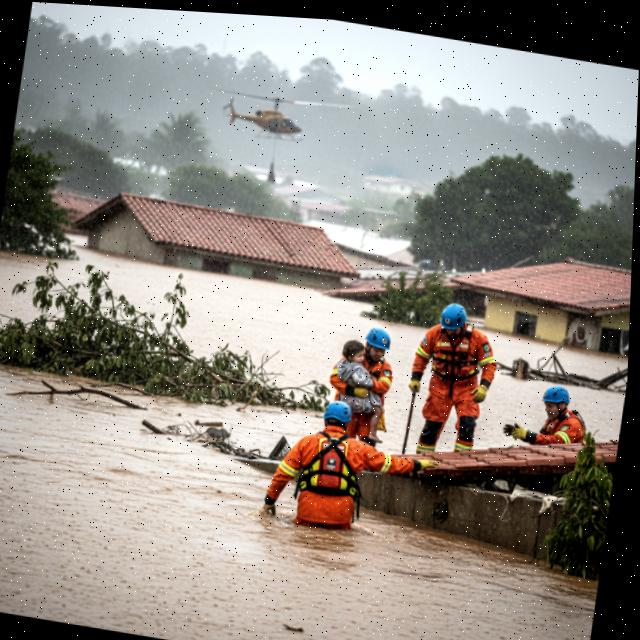civilian: (323, 335, 398, 447)
rescuer: (250, 385, 425, 549), (400, 296, 509, 461), (311, 314, 404, 451), (506, 371, 599, 460)
